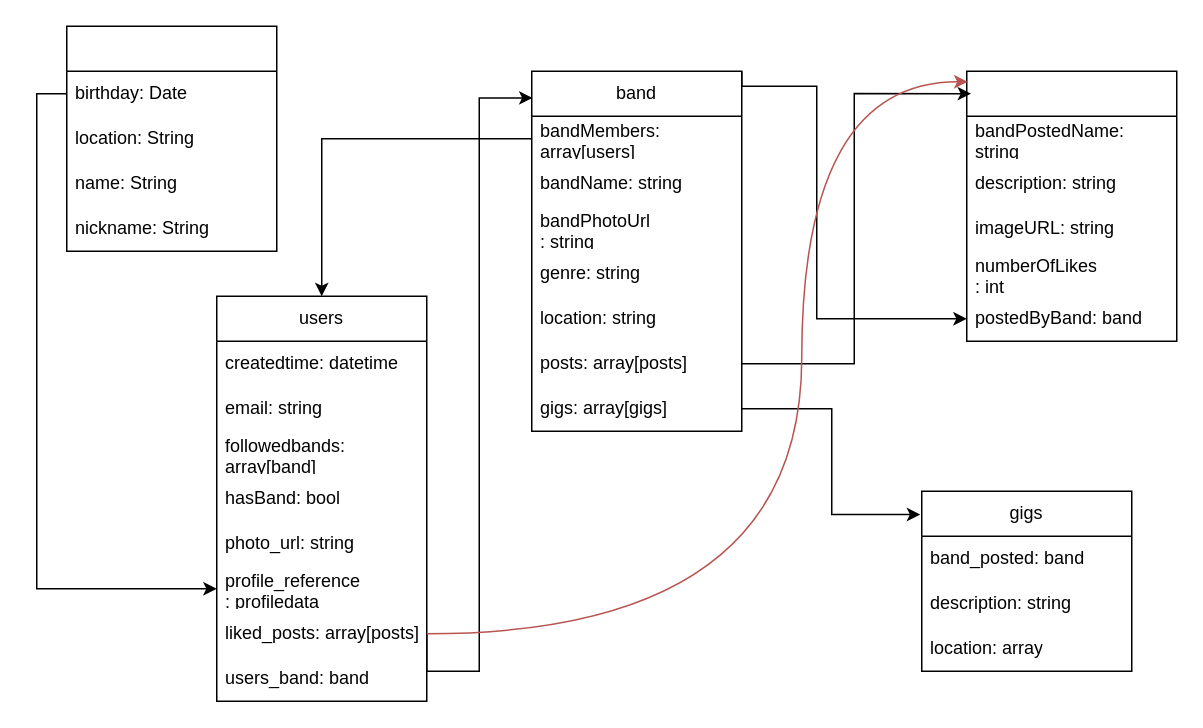
The diagram is 1203 pixels wide and 728 high, and some of its shapes have lost their labels. The box of each missing label's shape, as (x1, y1, x2, y2) in pixels:
posts: (965, 70, 1177, 341)
ProfileData: (65, 25, 277, 251)
